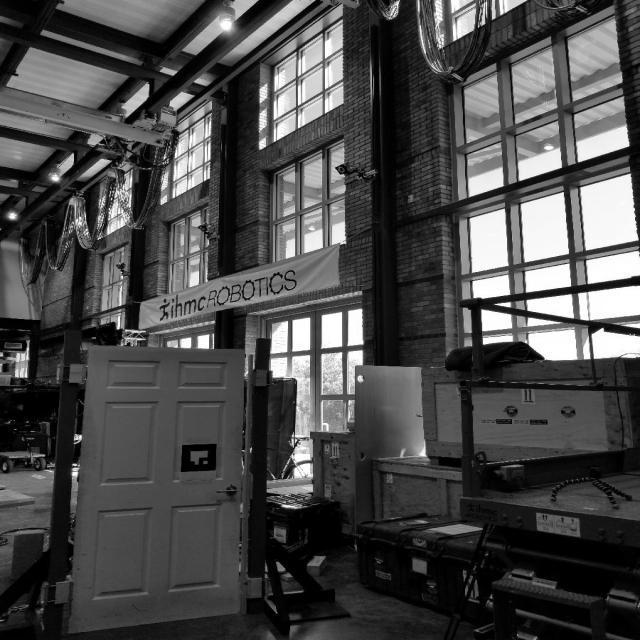door: (63, 344, 246, 634), (216, 482, 240, 499)
